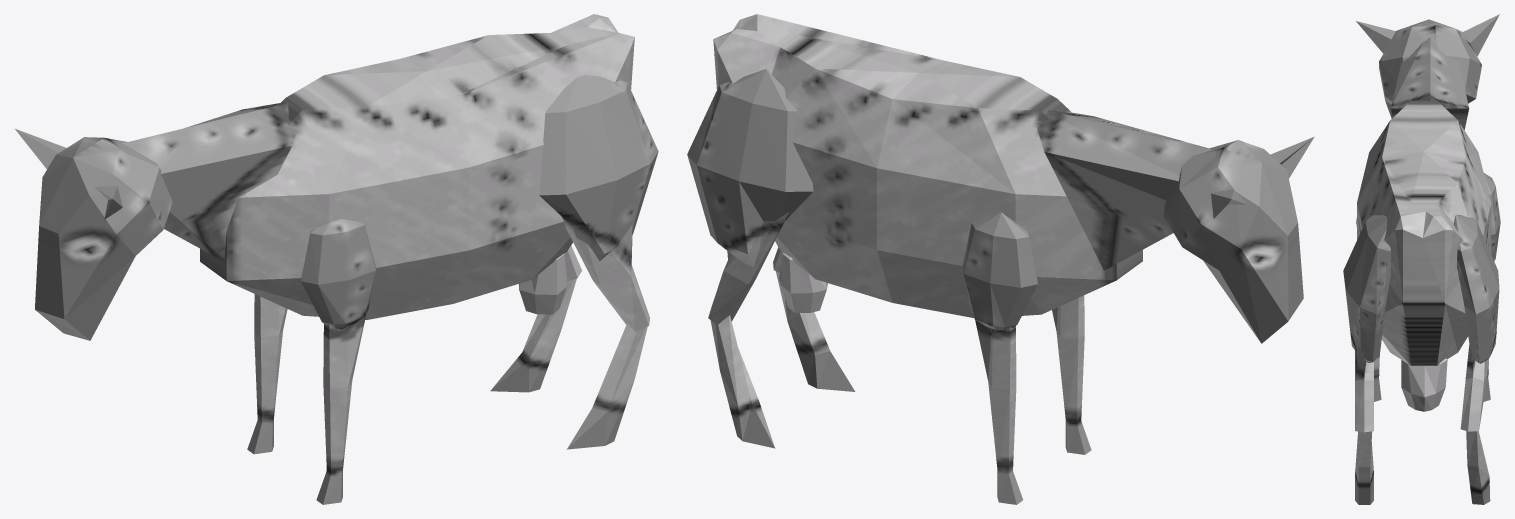
The model's file is Cow2.glb.
3 renders of one model, left to right at view 1: azimuth 30°, elevation 25°; view 2: azimuth 150°, elevation 25°; view 3: azimuth 270°, elevation 25°, orthographic. The views are drawn at different scales.
Visible parts, largest first — view 1: Cow2; view 2: Cow2; view 3: Cow2.
Boxes of the visible parts, bbox=[...] form: Cow2: bbox=[14, 14, 658, 504]; Cow2: bbox=[687, 14, 1314, 504]; Cow2: bbox=[1343, 14, 1500, 504].
Size of the model in its own units: 273 by 170 by 80.48.
Materials: 1 (1 with a texture image).
